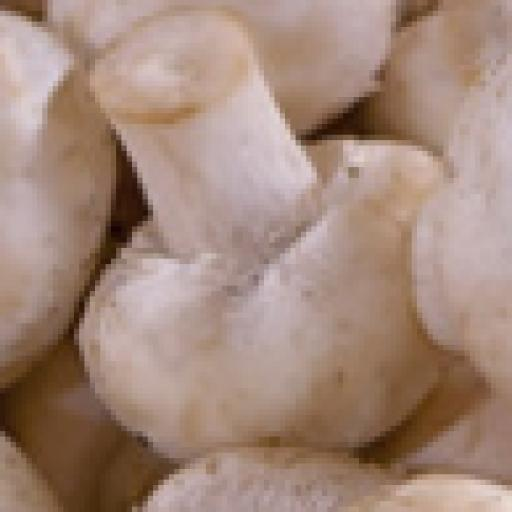Button Mushroom: (72, 8, 457, 463)
